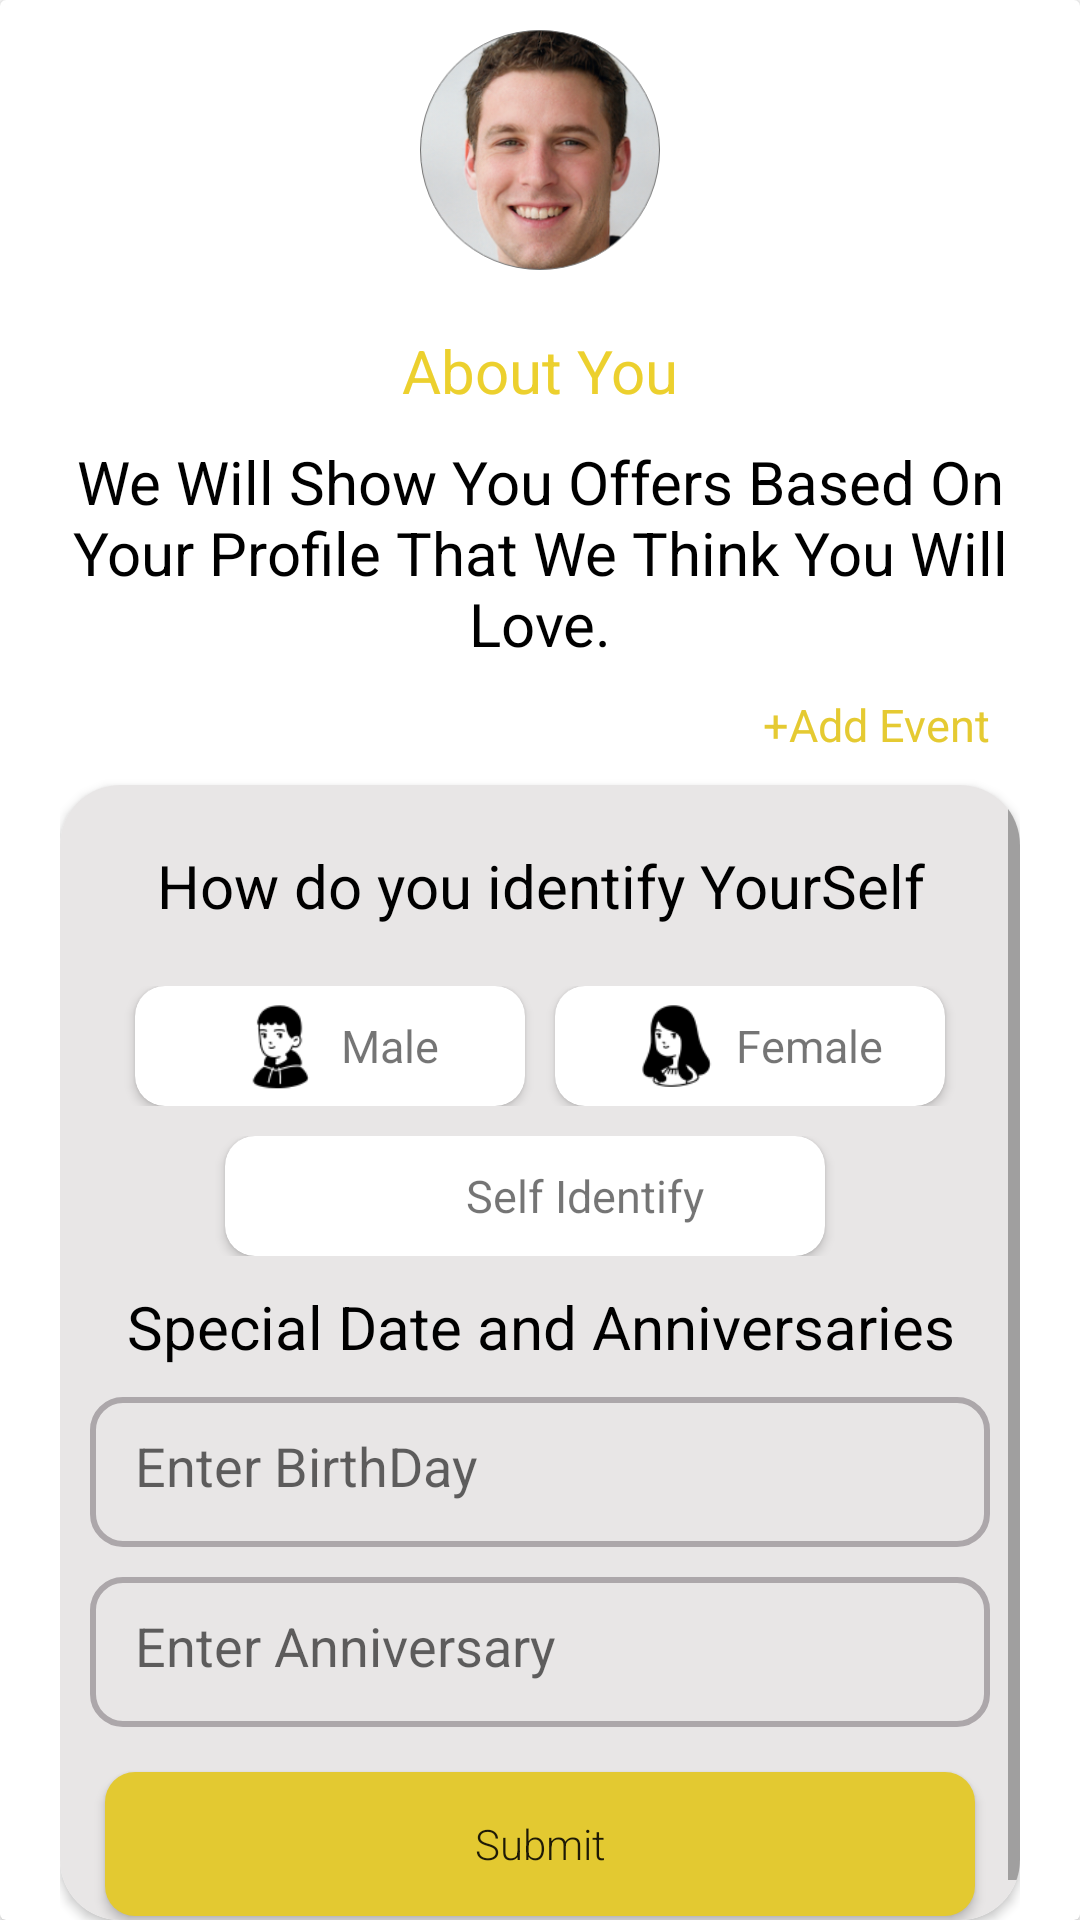

Point at icon controls on the screen. Image size 1080x1920, points as point (x, y).
user: point (540, 150)
